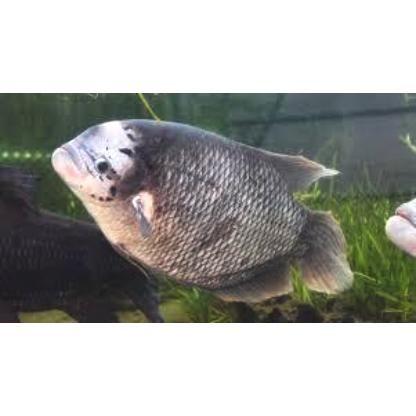gurame: (53, 118, 339, 292)
